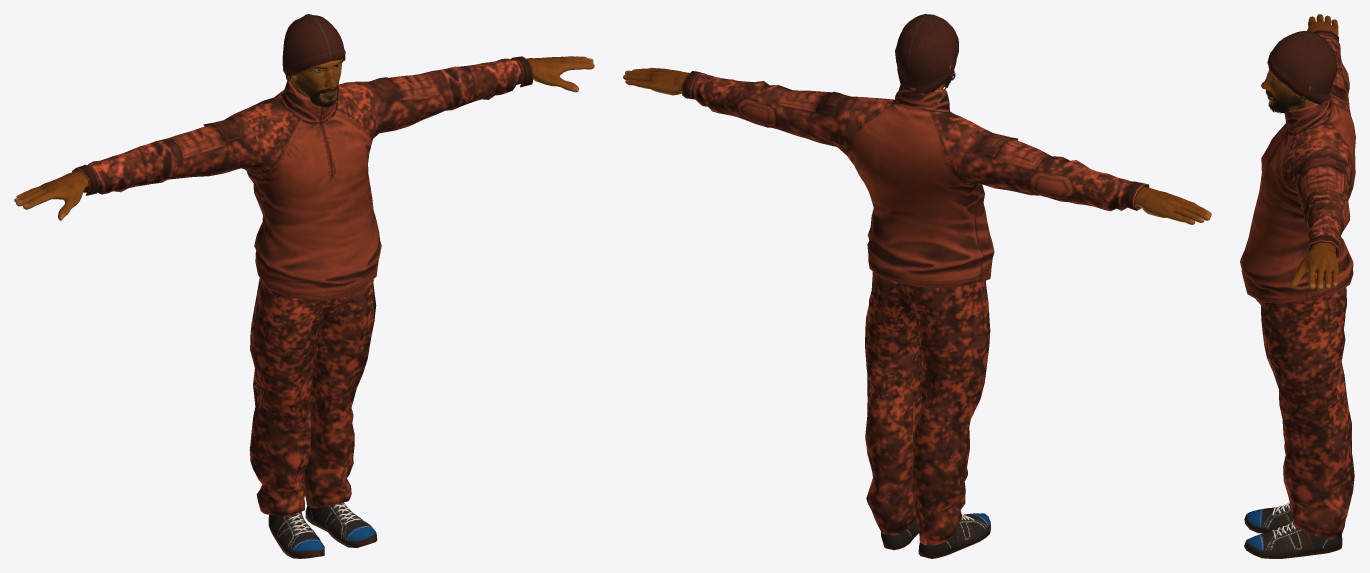
File: GangMember.fbx
3 views of the same model, side by side, from view 1: azimuth 30°, elevation 25°; view 2: azimuth 150°, elevation 25°; view 3: azimuth 270°, elevation 25° (orthographic). The views are drawn at different scales.
Parts seen in each view (by area): view 1: GangMember; view 2: GangMember; view 3: GangMember.
Part boxes in pixels (box(x1,y1,x2,y2)): GangMember: box(14, 14, 594, 558); GangMember: box(623, 14, 1211, 558); GangMember: box(1240, 14, 1355, 558).
Bounding box in the file's own units: 213 × 182 × 37.9.
1 material, 1 textured.
